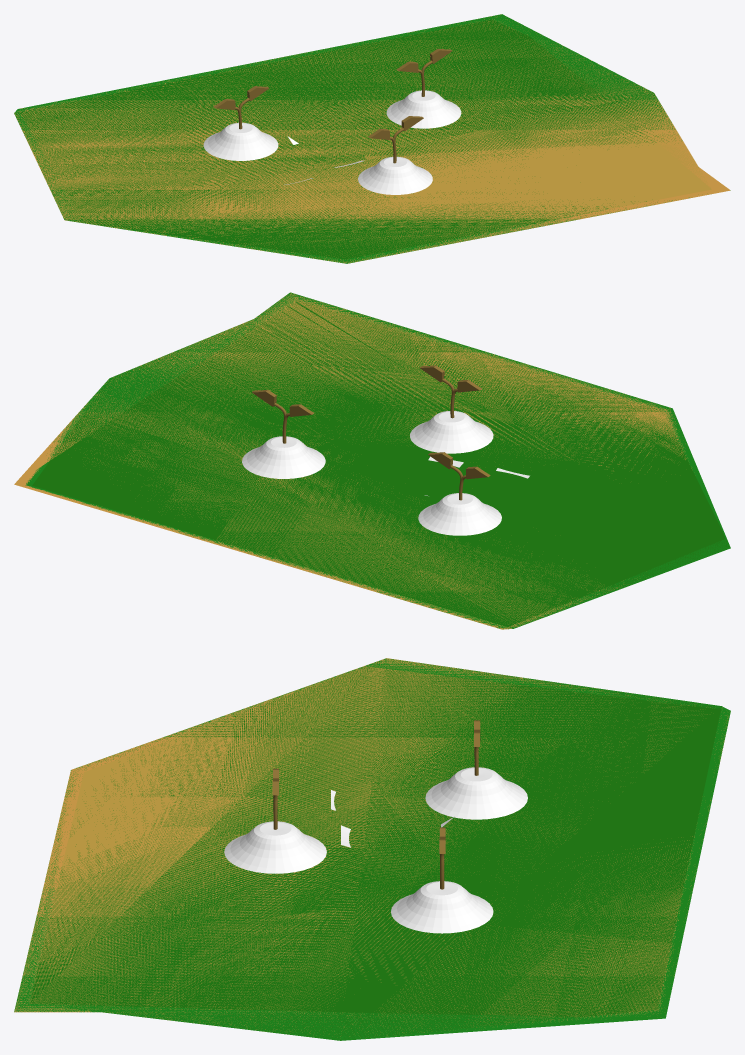
The model's file is task151.glb.
3 views of the same model, one above another, from view 1: azimuth 30°, elevation 25°; view 2: azimuth 150°, elevation 25°; view 3: azimuth 270°, elevation 25° (orthographic). The views are drawn at different scales.
Parts seen in each view (by area): view 1: task151; view 2: task151; view 3: task151.
Part boxes in pixels (x1=…): task151: x1=14, y1=14, x2=730, y2=263; task151: x1=14, y1=292, x2=730, y2=629; task151: x1=14, y1=658, x2=730, y2=1040.
Bounding box in the file's own units: 2.2 × 0.2542 × 1.74.
